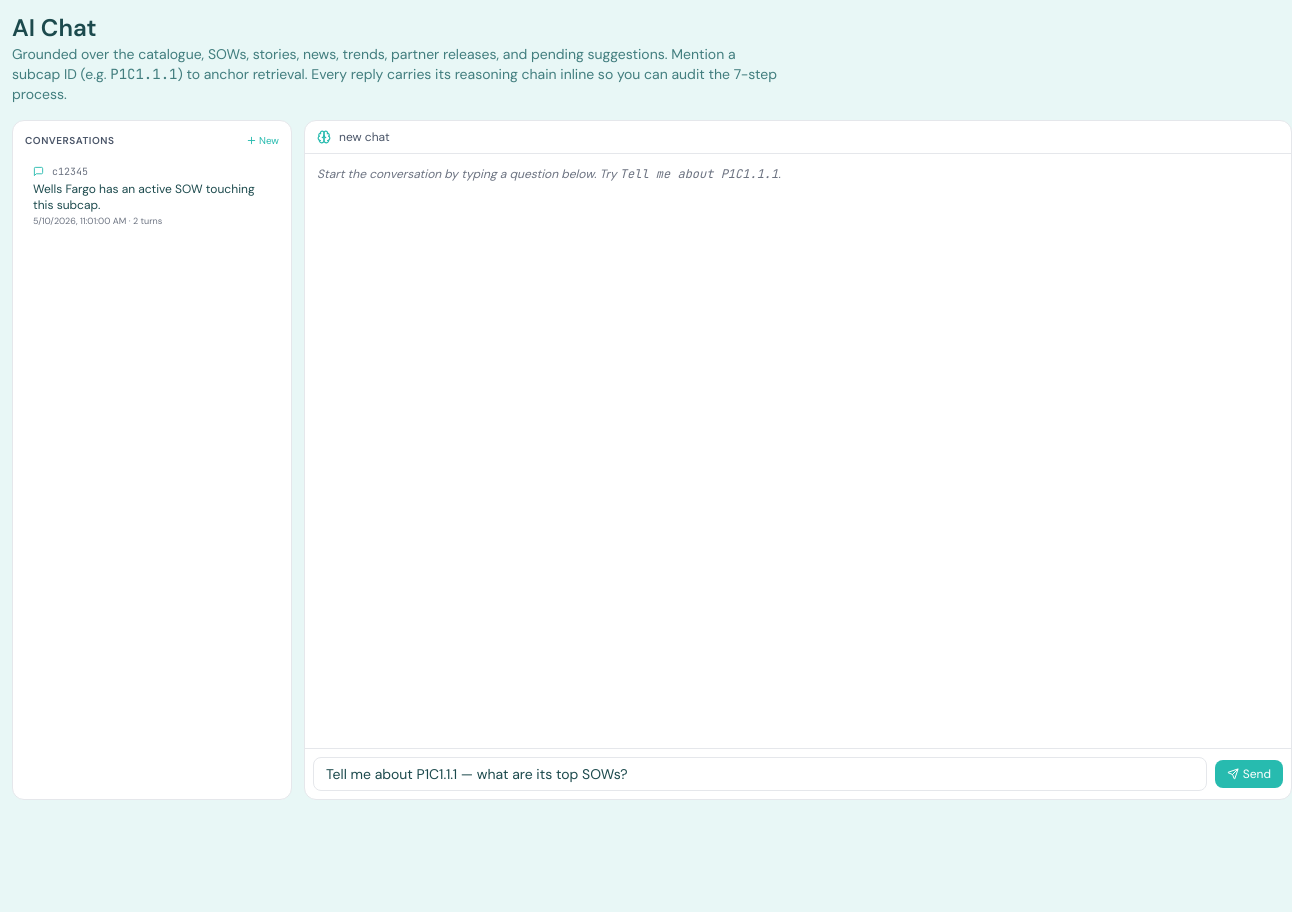
Test: AiChat › renders conversation list and opens detail with citations + chain link
The image size is (1292, 912).
Expected: the text "Wells Fargo has an active SOW touching this subcap." is shown, [33,181,271,213]
// Click the list row to open detail.
Click the button "Wells Fargo has an active SOW" at (152, 196), box [25,156,279,236]
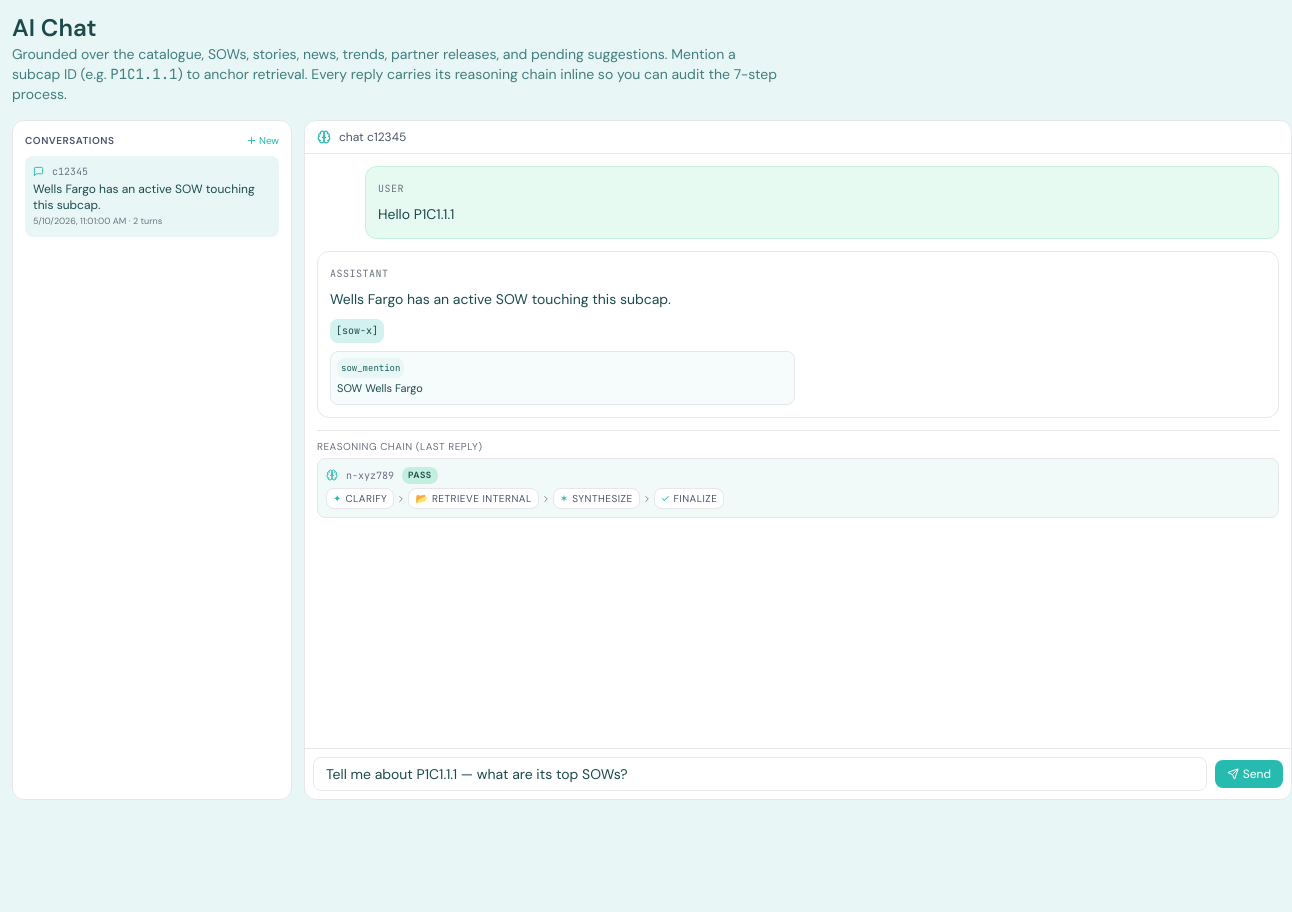
Expected: the text "[sow-x]" is shown, [330,318,384,342]
Expected: the text "n-xyz789" is shown, [346,468,394,483]
